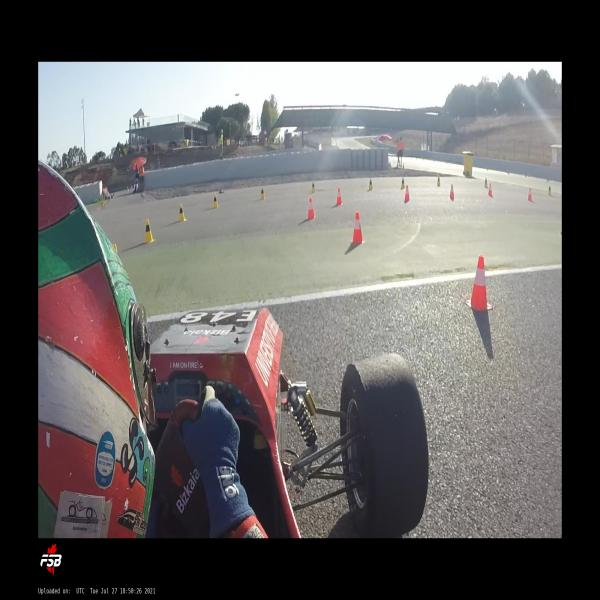orange_cone: (465, 255, 493, 310), (350, 211, 365, 244), (306, 196, 316, 220), (335, 187, 343, 206), (404, 184, 410, 202), (449, 184, 455, 200), (487, 183, 493, 196), (527, 188, 532, 202)
yellow_cone: (144, 218, 156, 243), (178, 202, 187, 222), (212, 192, 219, 209), (260, 185, 266, 200), (400, 176, 406, 189), (311, 180, 316, 194), (483, 176, 488, 189), (436, 174, 441, 187), (368, 177, 372, 191), (547, 186, 552, 196)
